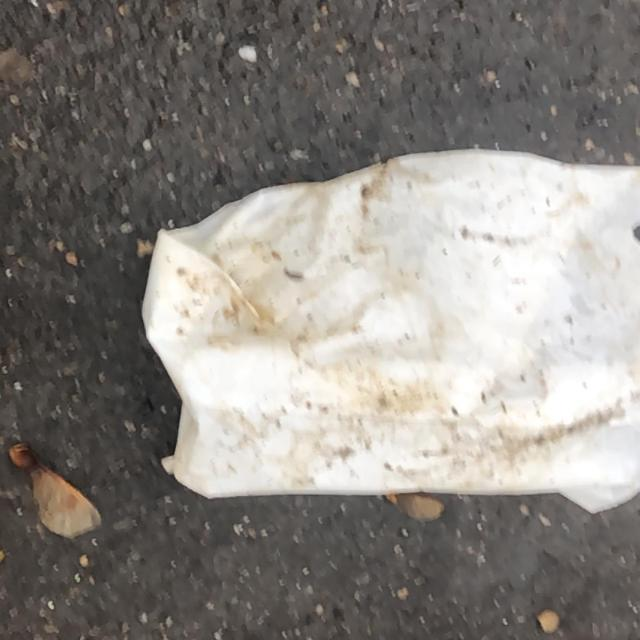Paper: (137, 142, 640, 520)
